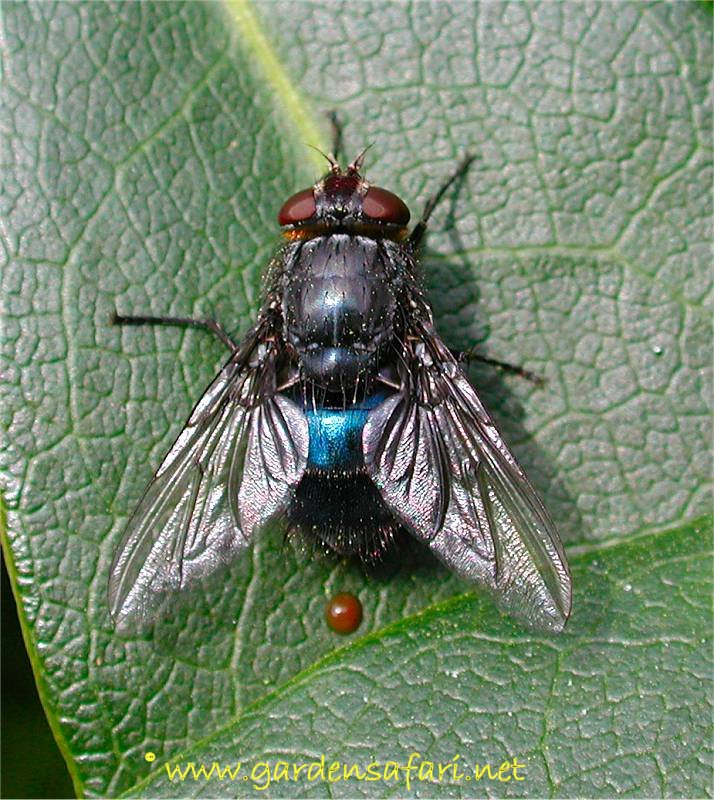house fly: (96, 133, 598, 660)
